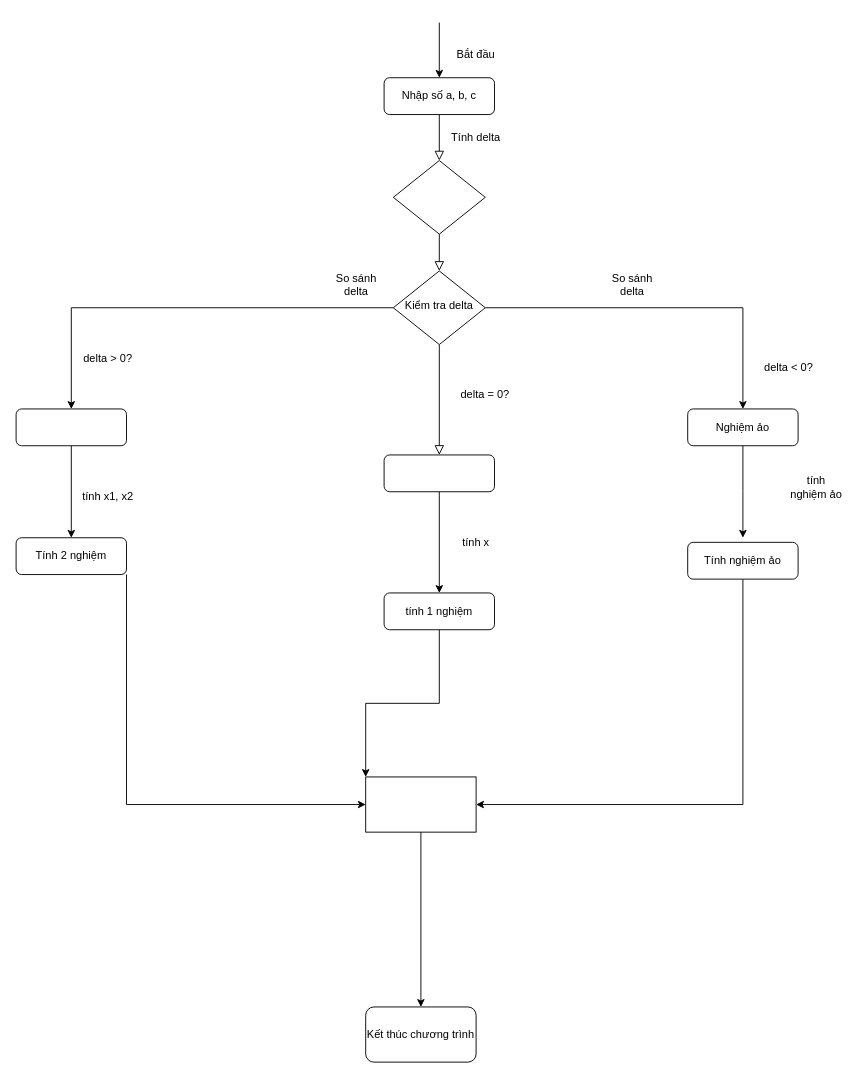
Image size: 860x1078. Some labels were removed from this diagram. The box of each missing label's shape, as (x1, y1, x2, y2) in pixels:
Delta = b^2 - 4ac: (392, 160, 485, 234)
Nghiệm = 0: (383, 454, 494, 492)
Nghiệm dương: (15, 408, 126, 446)
Xuất kết quả: (365, 776, 476, 832)
